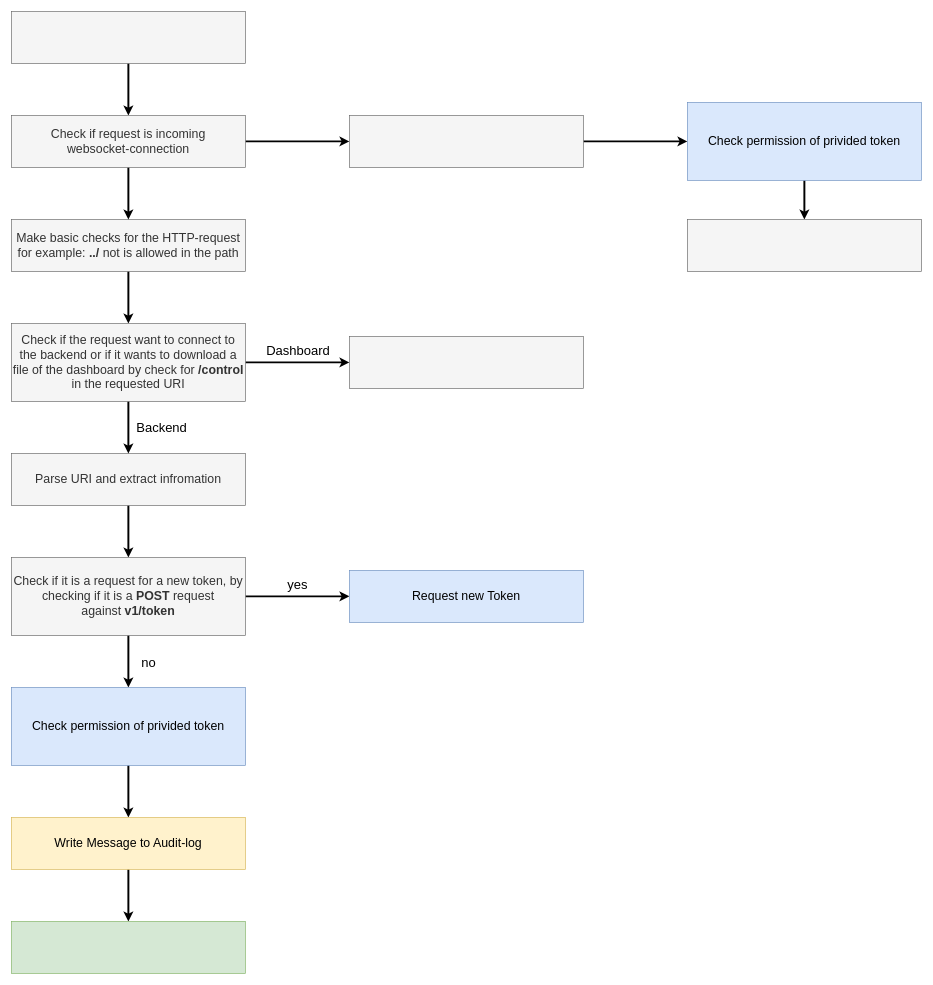
This 933x985 diagram has some shape labels left out. Here are the shapes that lost their labels. From the top down, the centre of each, then its label:
At point (128, 37): "Receive HTTP-request".
At point (466, 141): "Receive and parse initial message".
At point (804, 245): "Check target of the connection".
At point (466, 362): "Check if file exist and return the requested file".
At point (128, 947): "Forward request to the target-component within the backend behind the Torii".
